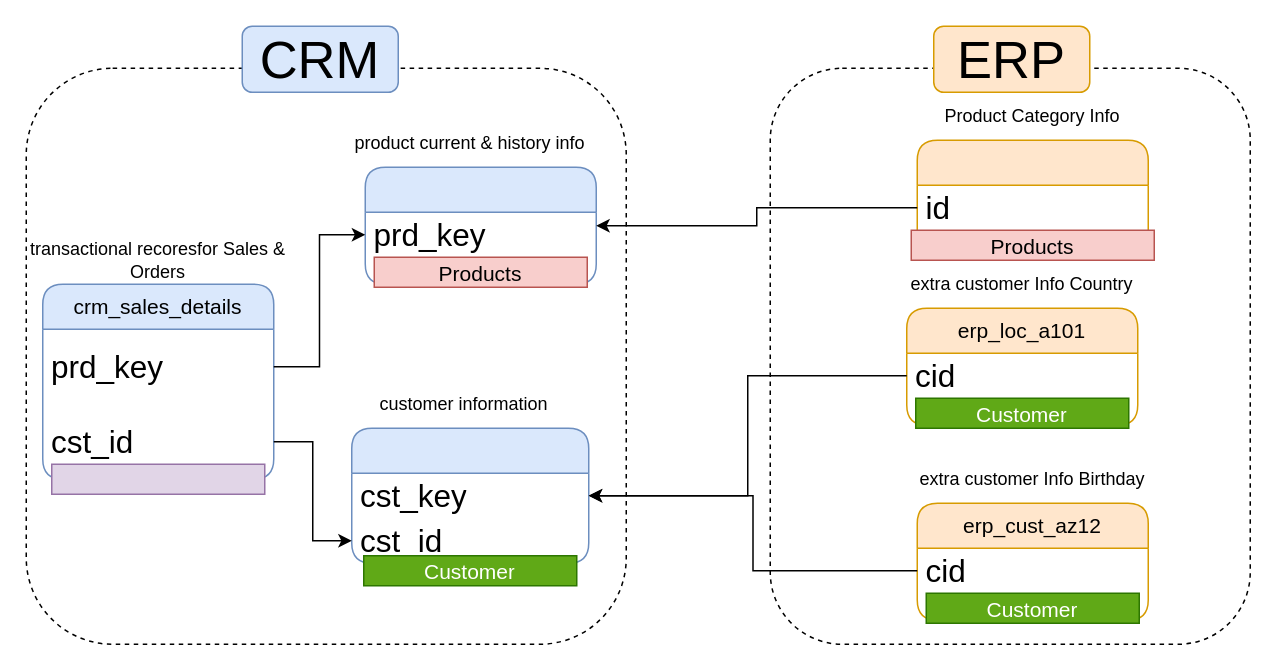
This 1277x671 diagram has some shape labels left out. The box of each missing label's shape, as (x1, y1, x2, y2) in pixels:
crm_cust_info: (350, 427, 589, 563)
crm_prd_info: (364, 166, 596, 284)
erp_px_cat_g1v2: (916, 139, 1148, 257)
Sales: (50, 463, 265, 494)
